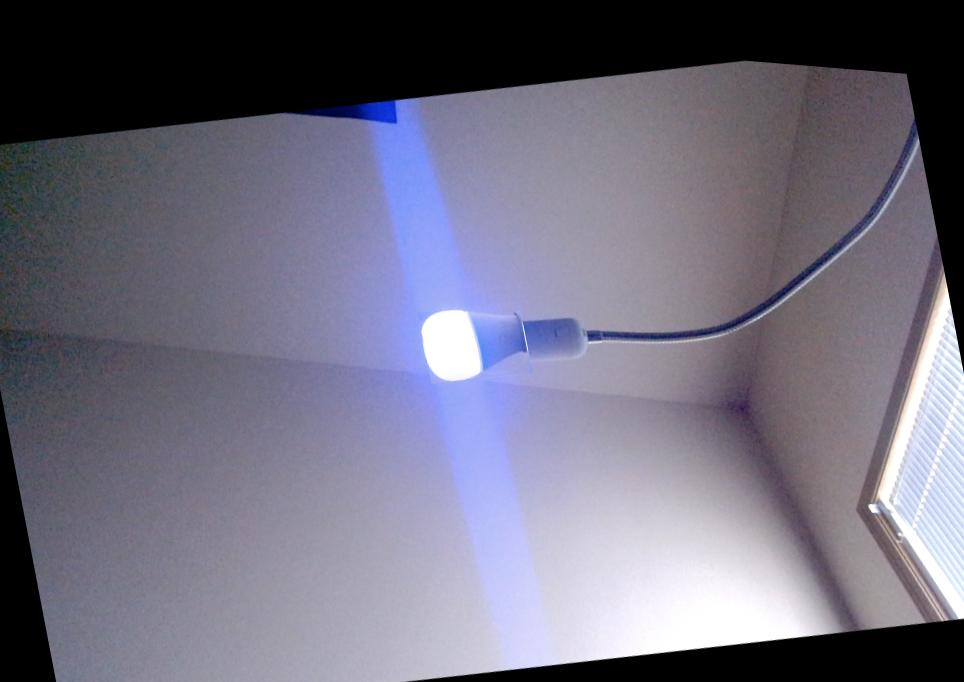TubeLight: (418, 285, 532, 383)
